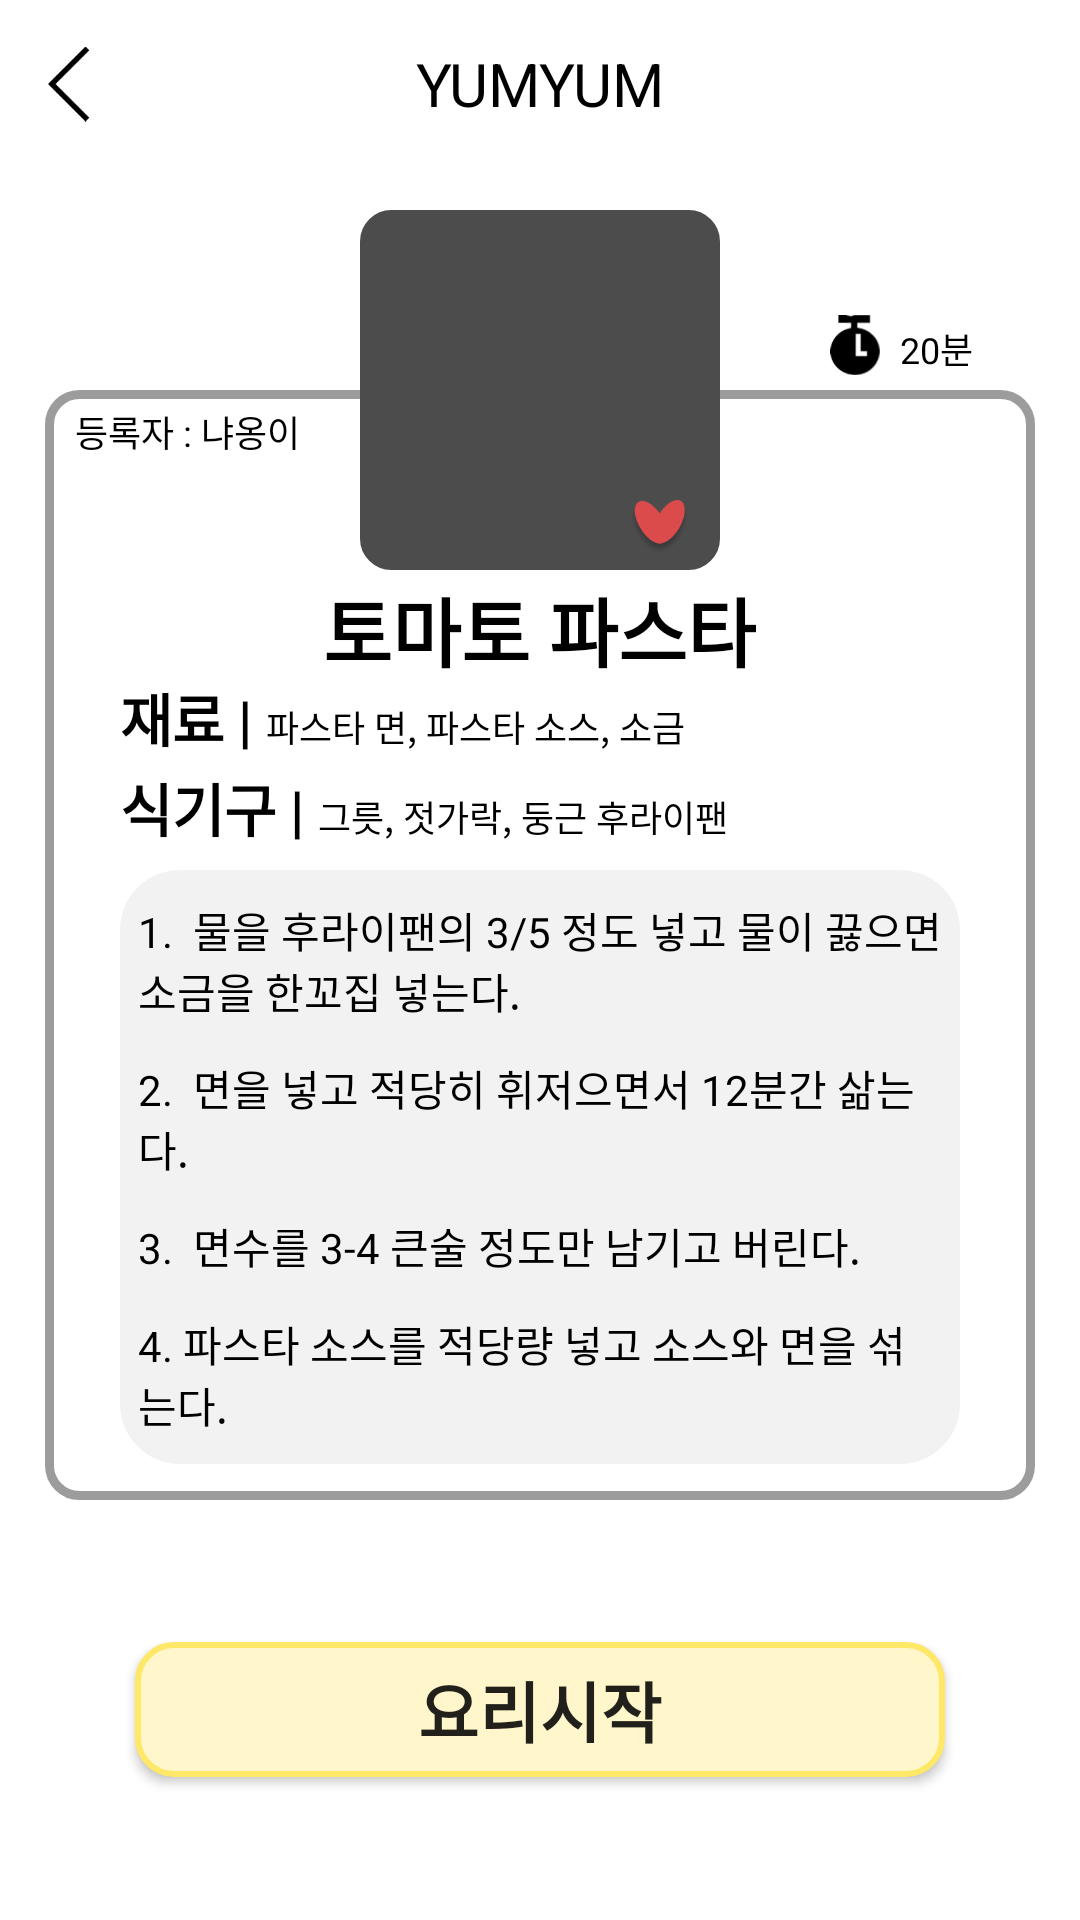

Screen size 1080x1920. Icon name, then its center in pixels as (x,y):
back: (68,84)
redheart: (660,522)
timer: (855,345)
